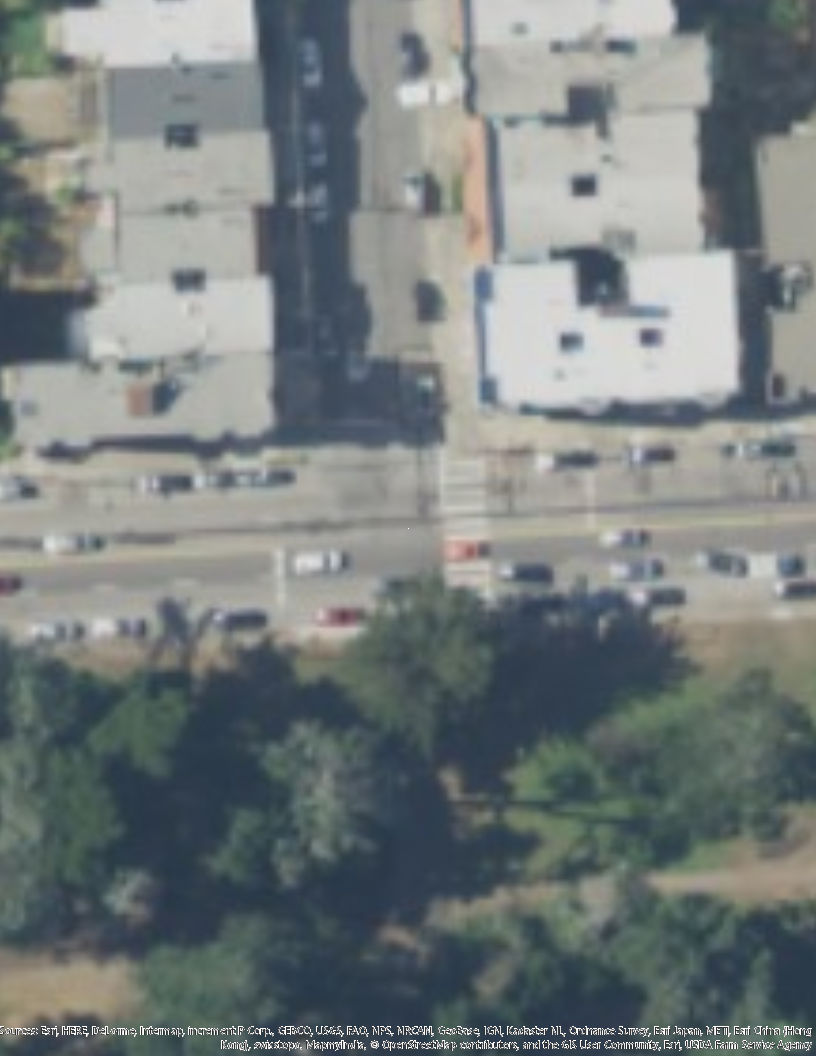zebracross: (438, 456, 491, 600)
